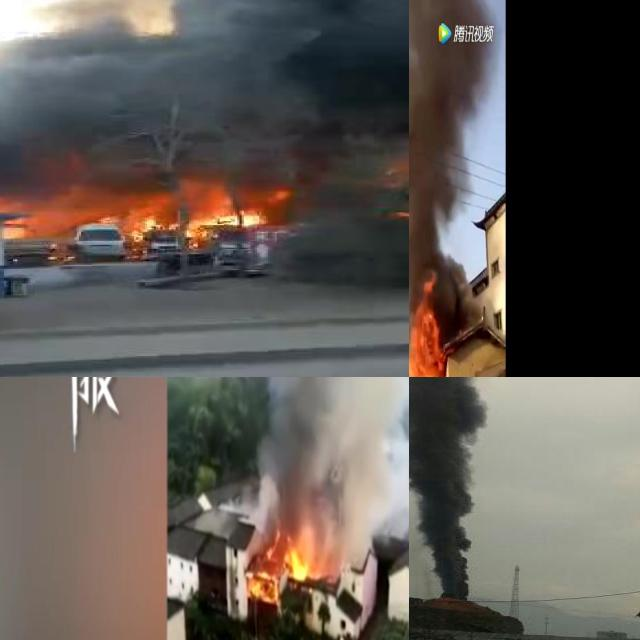fire: (120, 188, 274, 238), (248, 528, 315, 600), (409, 289, 445, 377)
smoke: (0, 0, 409, 213), (257, 377, 409, 578), (409, 0, 493, 341), (409, 377, 529, 601)
